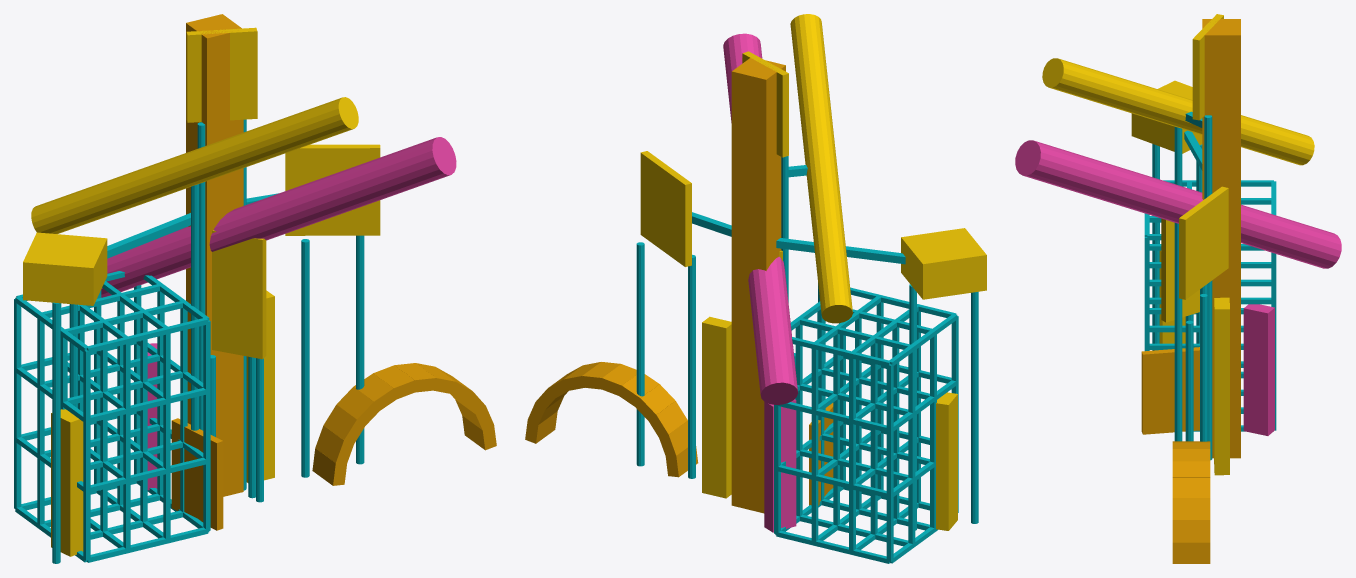
File: folie_tag_047.glb
3 views of the same model, side by side, from view 1: azimuth 30°, elevation 25°; view 2: azimuth 150°, elevation 25°; view 3: azimuth 270°, elevation 25° (orthographic). The views are drawn at different scales.
Parts seen in each view (by area): view 1: folie_tag_047_00_cage, folie_tag_047_line, folie_tag_047_01_tube, folie_tag_047_03_tube, folie_tag_047_core, folie_tag_047_02_arc, folie_tag_047_06_panel, folie_tag_047_09_block, folie_tag_047_05_panel, folie_tag_047_08_panel, folie_tag_047_10_fin, folie_tag_047_11_panel (+2 smaller); view 2: folie_tag_047_00_cage, folie_tag_047_core, folie_tag_047_03_tube, folie_tag_047_line, folie_tag_047_02_arc, folie_tag_047_01_tube, folie_tag_047_04_fin, folie_tag_047_09_block, folie_tag_047_05_panel, folie_tag_047_07_fin, folie_tag_047_10_fin, folie_tag_047_08_panel (+1 smaller); view 3: folie_tag_047_01_tube, folie_tag_047_core, folie_tag_047_line, folie_tag_047_03_tube, folie_tag_047_02_arc, folie_tag_047_05_panel, folie_tag_047_00_cage, folie_tag_047_07_fin, folie_tag_047_11_panel, folie_tag_047_04_fin, folie_tag_047_06_panel, folie_tag_047_09_block (+2 smaller).
Boxes of the visible parts, x1,y1,x2,y2 form: folie_tag_047_00_cage: (14,271,210,562); folie_tag_047_line: (52,119,364,563); folie_tag_047_01_tube: (101,137,456,297); folie_tag_047_03_tube: (31,97,358,233); folie_tag_047_core: (186,14,243,496); folie_tag_047_02_arc: (312,363,496,485); folie_tag_047_06_panel: (212,230,266,359); folie_tag_047_09_block: (23,232,107,305); folie_tag_047_05_panel: (285,144,380,235); folie_tag_047_08_panel: (186,27,257,122); folie_tag_047_10_fin: (51,409,83,556); folie_tag_047_11_panel: (171,418,223,530); folie_tag_047_00_cage: (774,287,958,563); folie_tag_047_core: (731,58,785,513); folie_tag_047_03_tube: (790,14,852,323); folie_tag_047_line: (636,156,978,530); folie_tag_047_02_arc: (525,362,698,477); folie_tag_047_01_tube: (723,33,797,404); folie_tag_047_04_fin: (702,316,731,498); folie_tag_047_09_block: (901,228,986,299); folie_tag_047_05_panel: (640,151,691,266); folie_tag_047_07_fin: (764,399,796,532); folie_tag_047_10_fin: (936,392,957,530); folie_tag_047_08_panel: (742,51,788,157); folie_tag_047_01_tube: (1015,140,1341,268); folie_tag_047_core: (1202,19,1240,458); folie_tag_047_line: (1152,111,1212,460); folie_tag_047_03_tube: (1042,58,1314,165); folie_tag_047_02_arc: (1172,441,1210,563); folie_tag_047_05_panel: (1179,186,1228,299); folie_tag_047_00_cage: (1144,180,1276,431); folie_tag_047_07_fin: (1243,304,1274,435); folie_tag_047_11_panel: (1141,347,1199,434); folie_tag_047_04_fin: (1214,297,1229,475); folie_tag_047_06_panel: (1161,218,1199,322); folie_tag_047_09_block: (1131,80,1202,153).
Bounding box in the file's own units: 14.18 × 13.33 × 9.28.
